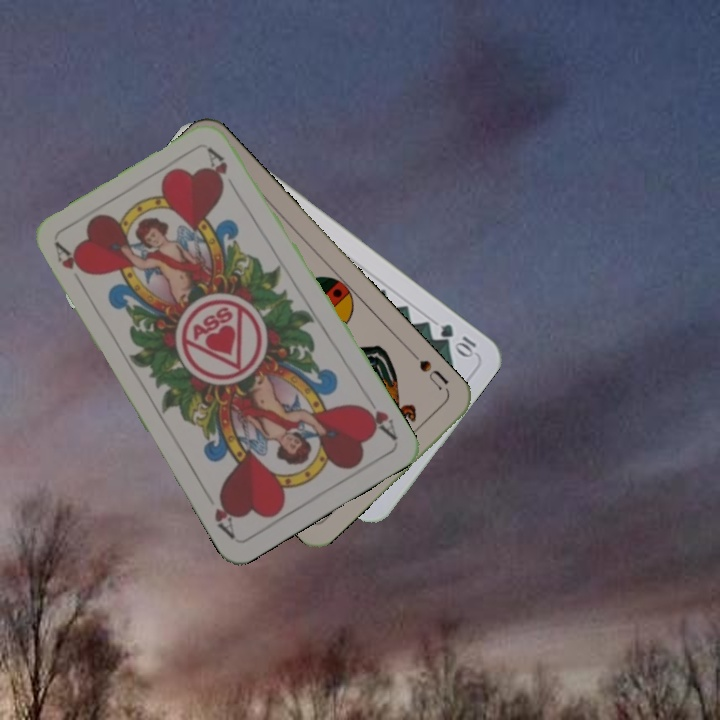G10: (436, 319, 479, 360)
HA: (51, 239, 89, 293), (355, 399, 400, 443)
SU: (408, 348, 452, 393)
